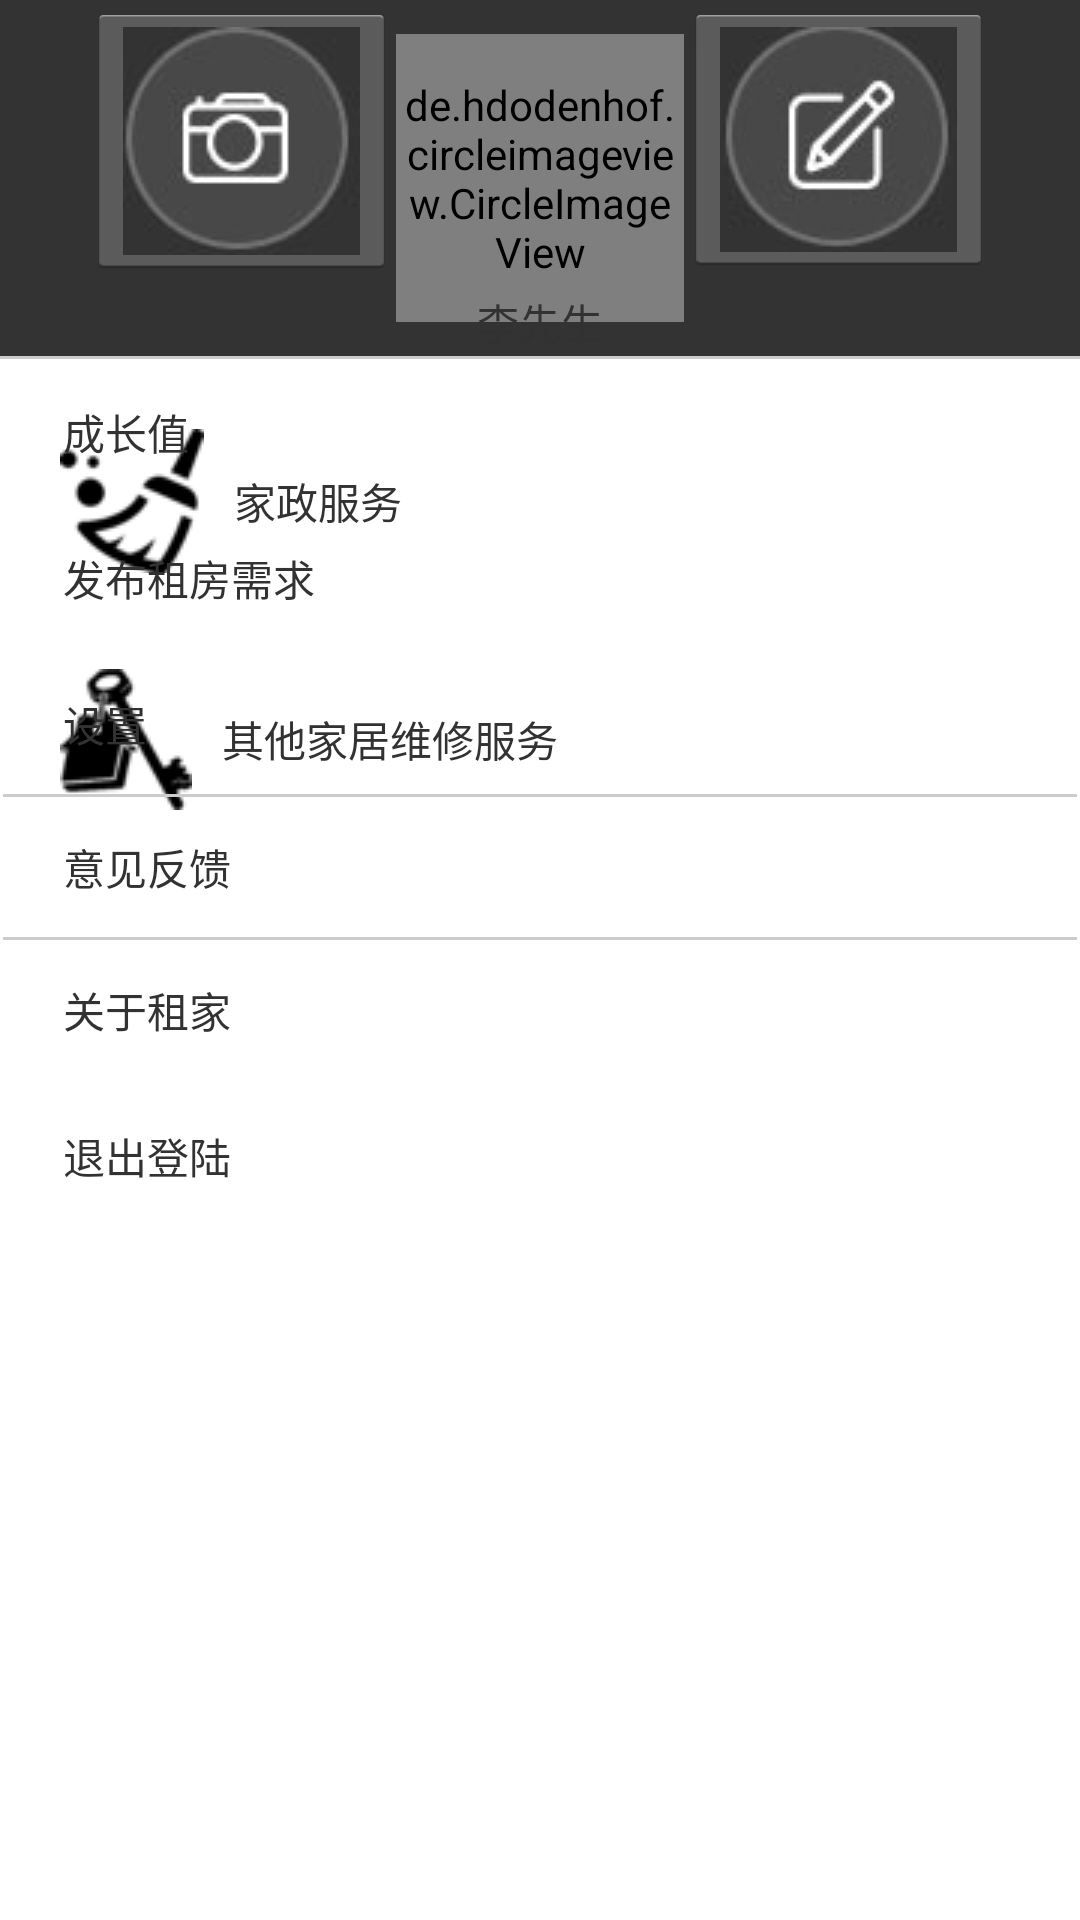

Locate icon controls on the screen. Image size 1080px×1920px, boxes as [x1=x1, y1=y1, x2=x2, y2=y2].
edit me: [x1=696, y1=15, x2=981, y2=265]
shoot me: [x1=99, y1=15, x2=384, y2=268]
